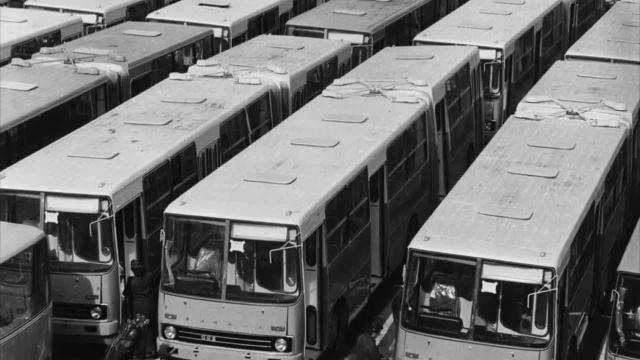bus: (156, 44, 478, 360), (4, 51, 298, 351), (390, 20, 640, 359), (3, 19, 217, 173), (408, 1, 580, 137), (0, 187, 127, 342)
